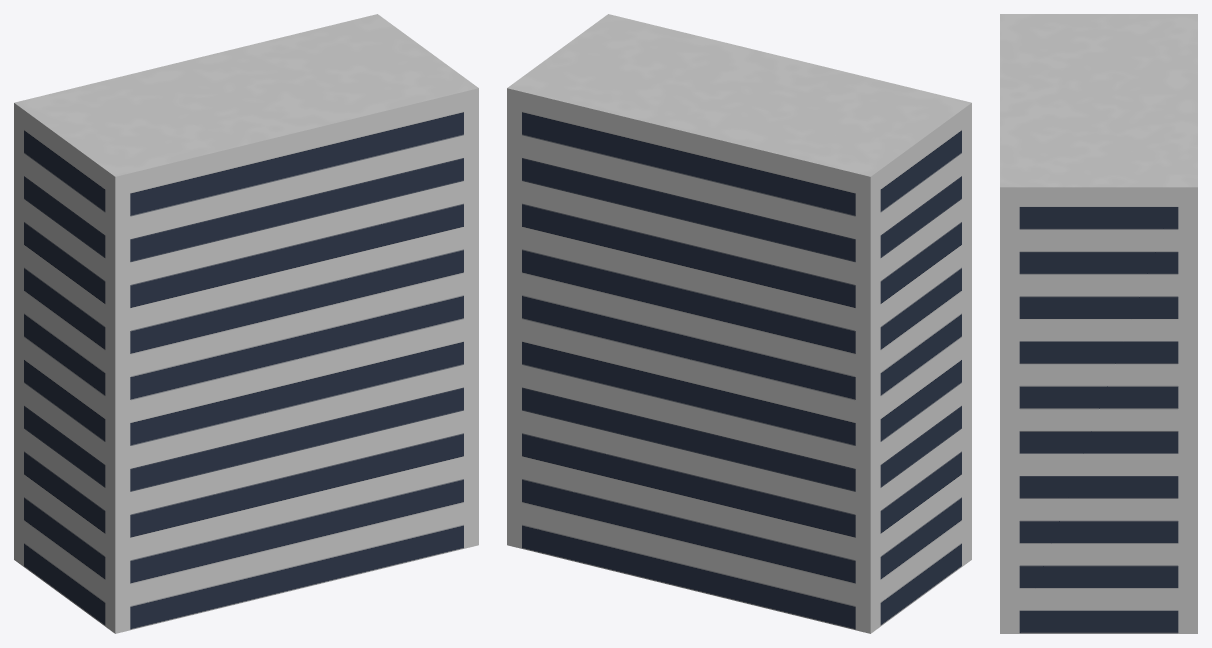
Rendered from Building_S_W2_b_001.fbx.
3 views of the same model, side by side, from view 1: azimuth 30°, elevation 25°; view 2: azimuth 150°, elevation 25°; view 3: azimuth 270°, elevation 25° (orthographic). The views are drawn at different scales.
Parts seen in each view (by area): view 1: Building_S_W2_b_001; view 2: Building_S_W2_b_001; view 3: Building_S_W2_b_001.
Boxes of the visible parts, x1,y1,x2,y2 form: Building_S_W2_b_001: [14, 14, 478, 633]; Building_S_W2_b_001: [507, 14, 971, 633]; Building_S_W2_b_001: [1000, 14, 1197, 633].
Bounding box in the file's own units: 36.53 × 43.87 × 17.63.
